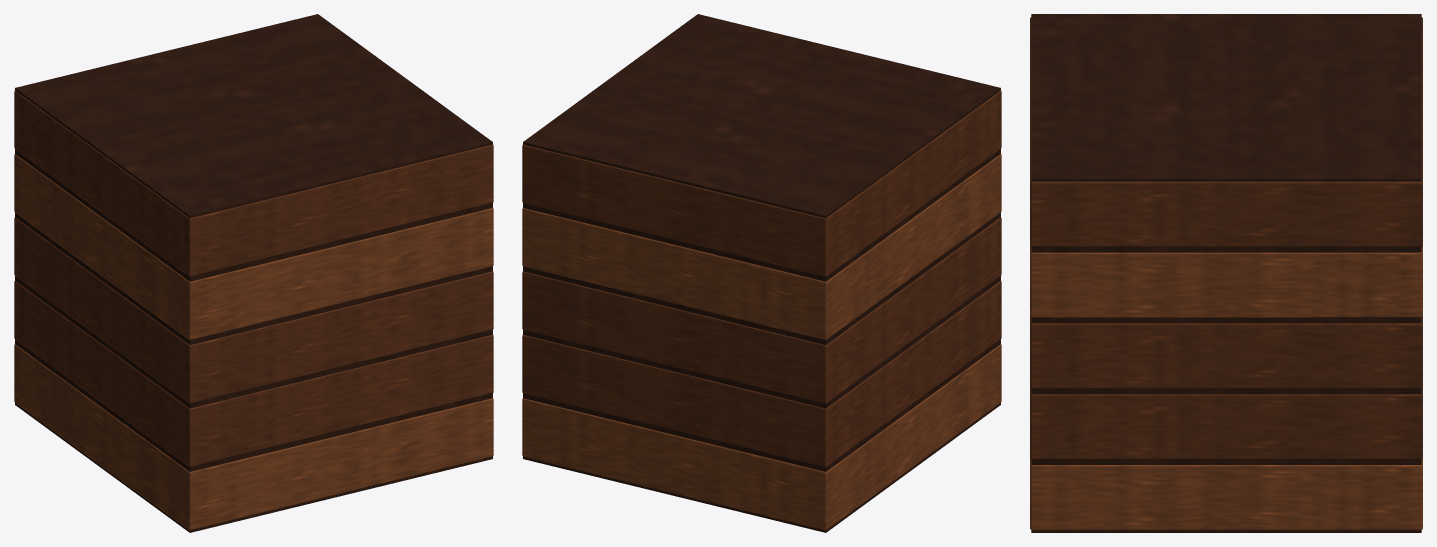
The model's file is bloco-madeira.glb.
3 renders of one model, left to right at view 1: azimuth 30°, elevation 25°; view 2: azimuth 150°, elevation 25°; view 3: azimuth 270°, elevation 25°, orthographic. The views are drawn at different scales.
Parts seen in each view (by area): view 1: Tábua contínua.011, Núcleo de madeira.002, Tábua contínua.010; view 2: Tábua contínua.011, Núcleo de madeira.002, Tábua contínua.010; view 3: Tábua contínua.011, Núcleo de madeira.002, Tábua contínua.010.
Part boxes in pixels (x1,y1,x2,y2): Tábua contínua.011: (14,90,493,466); Núcleo de madeira.002: (15,14,492,532); Tábua contínua.010: (14,154,493,530); Tábua contínua.011: (522,90,1001,466); Núcleo de madeira.002: (523,14,1000,532); Tábua contínua.010: (522,154,1001,530); Tábua contínua.011: (1030,17,1422,459); Núcleo de madeira.002: (1031,14,1421,532); Tábua contínua.010: (1030,246,1422,530).
Bounding box in the file's own units: 1.01 × 1 × 1.01.
Materials: 3 (3 with a texture image).
